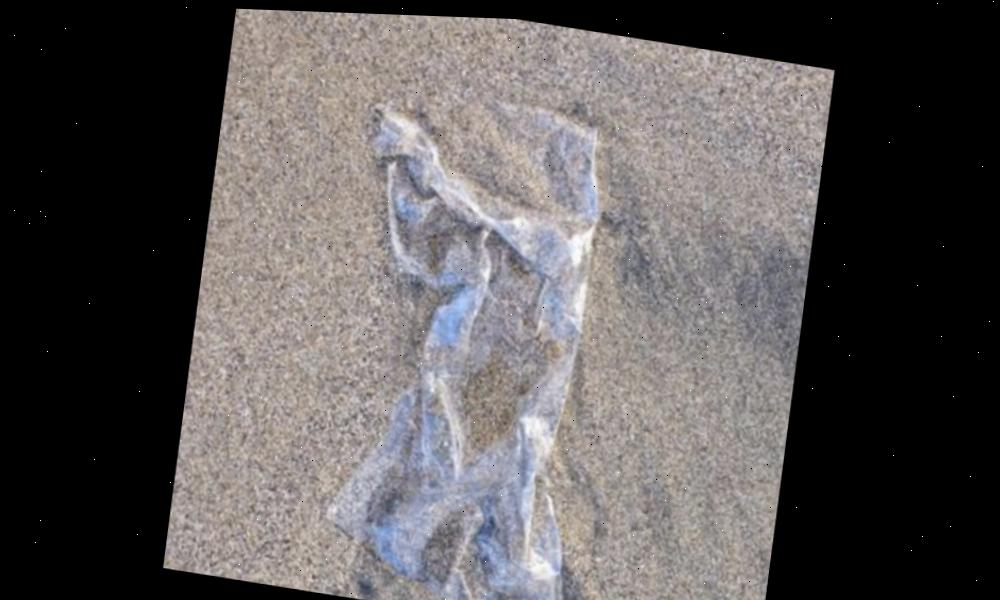plastic bag: (304, 56, 638, 600)
